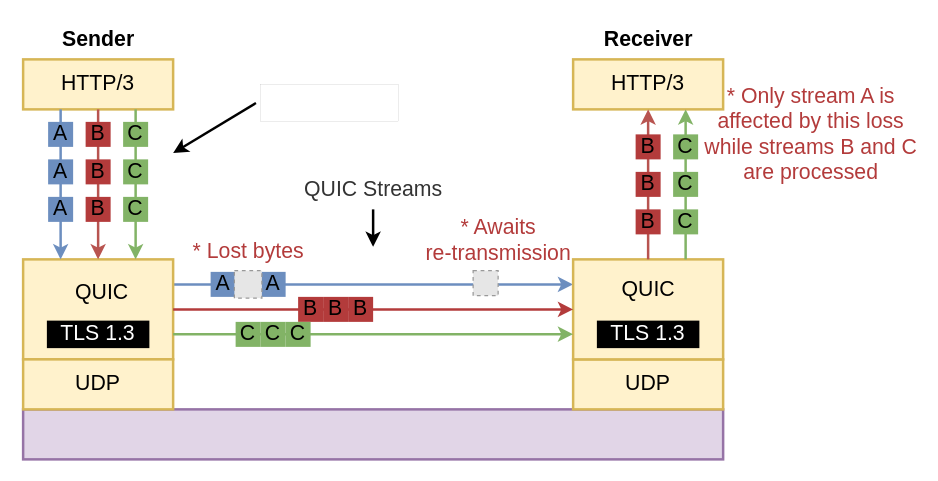
Image size: 938x481. Some labels were removed from this diagram. Grey dashed boxes stand in for pictures. Here are the shapes that lost their labels. From the top down, the box of each, then its label:
(260, 84, 398, 121): HTTP Streams
(21, 408, 724, 460): IP
